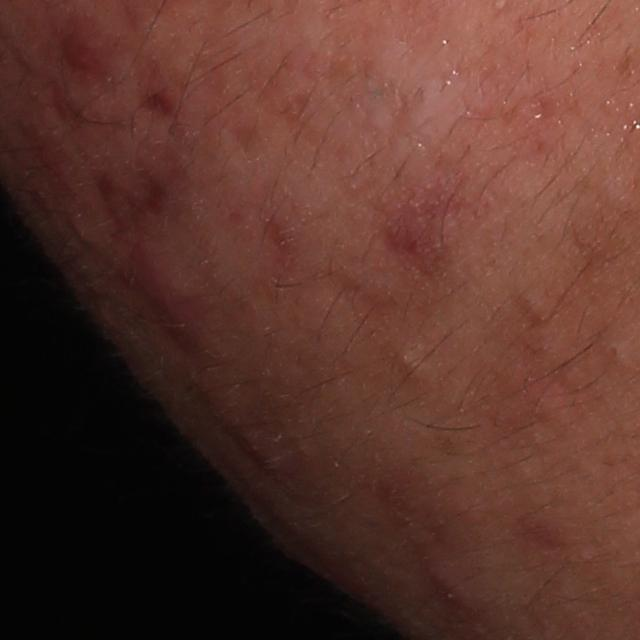comedo: (392, 339, 426, 380), (519, 288, 544, 319), (603, 338, 627, 360)
papule: (140, 247, 206, 358), (427, 564, 479, 610), (61, 35, 105, 69)
